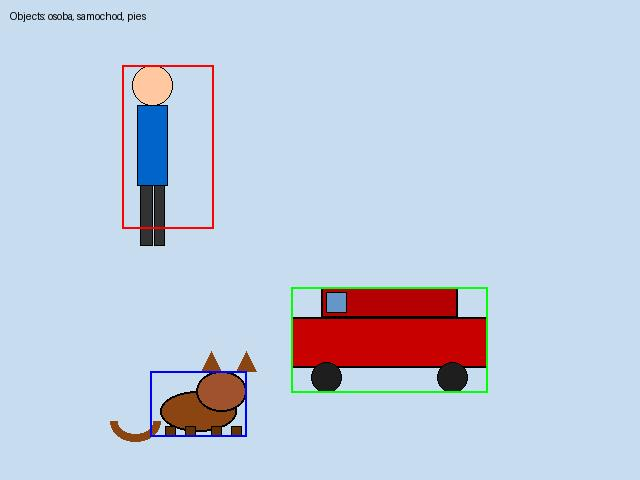osoba: (122, 65, 213, 228)
pies: (150, 371, 246, 436)
samochod: (291, 287, 487, 392)
